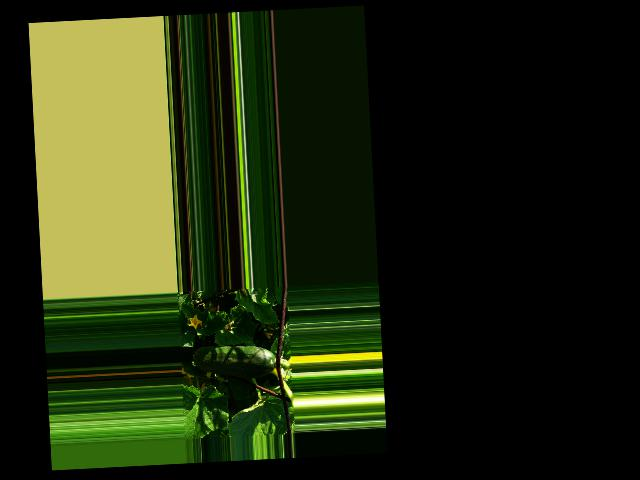cucumber: (192, 343, 276, 382)
